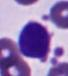L: (18, 20, 52, 59)
